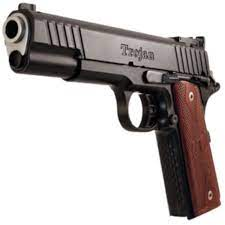weapon: (1, 3, 225, 221)
